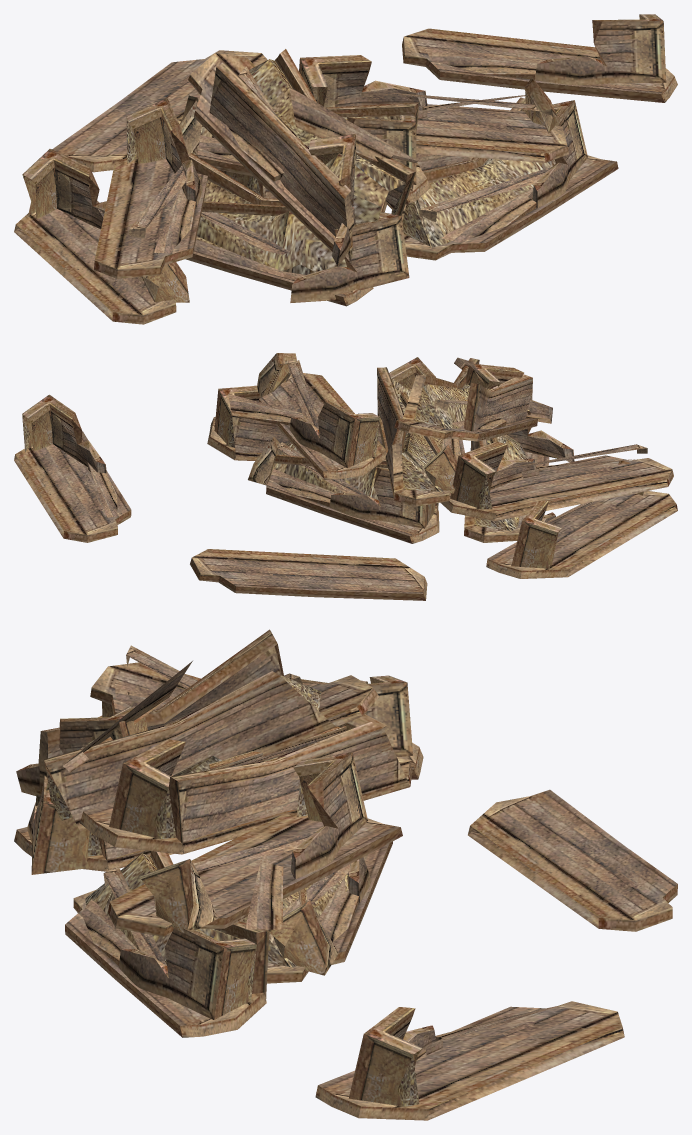
Rendered from wpnctx6.glb.
3 renders of one model, top to bottom at view 1: azimuth 30°, elevation 25°; view 2: azimuth 150°, elevation 25°; view 3: azimuth 270°, elevation 25°, orthographic. The views are drawn at different scales.
Visible parts, largest first — view 1: _wpnctx6; view 2: _wpnctx6; view 3: _wpnctx6.
Boxes of the visible parts, x1,y1,x2,y2 form: _wpnctx6: [14, 14, 677, 324]; _wpnctx6: [14, 353, 677, 600]; _wpnctx6: [14, 629, 677, 1120].
Bounding box in the file's own units: 5.26 × 1.25 × 3.74.
1 material, 1 textured.
